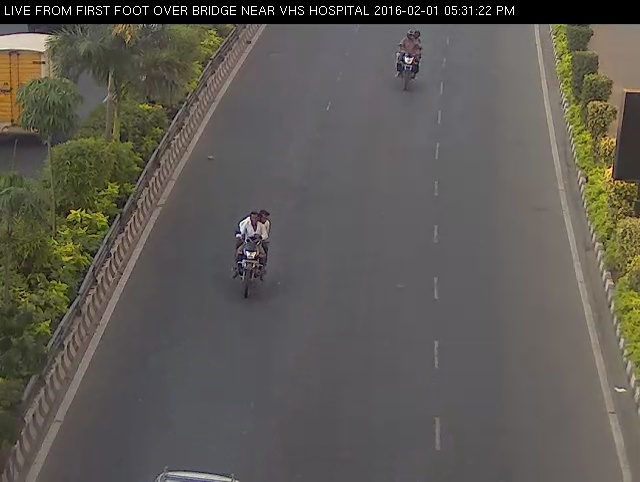Car: (130, 448, 252, 482)
Person: (223, 203, 278, 303), (391, 27, 431, 99)
